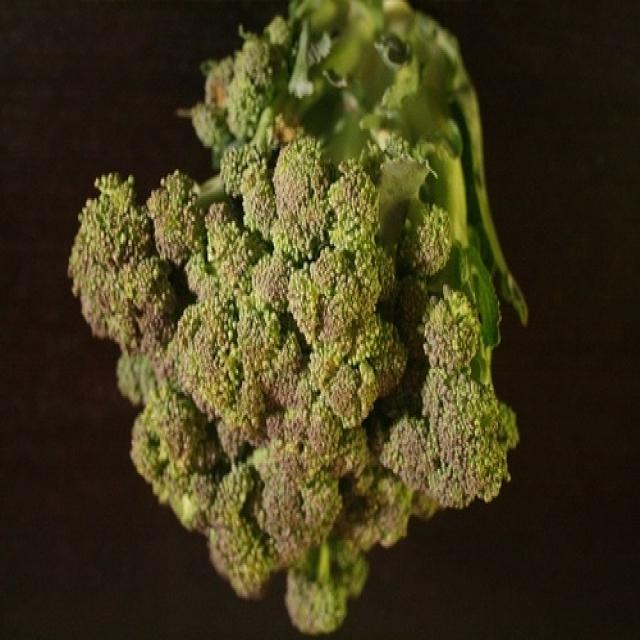broccoli: (72, 11, 526, 634)
